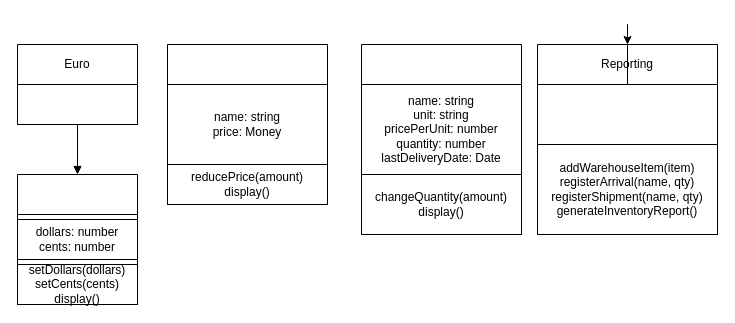
This 735x323 diagram has some shape labels left out. The box of each missing label's shape, as (x1, y1, x2, y2) in pixels:
euros: number cents: number: (16, 84, 138, 124)
Money: (16, 174, 138, 304)
Product: (166, 44, 328, 194)
Warehouse: (360, 44, 522, 234)
warehouseItems: array: (536, 84, 718, 144)
